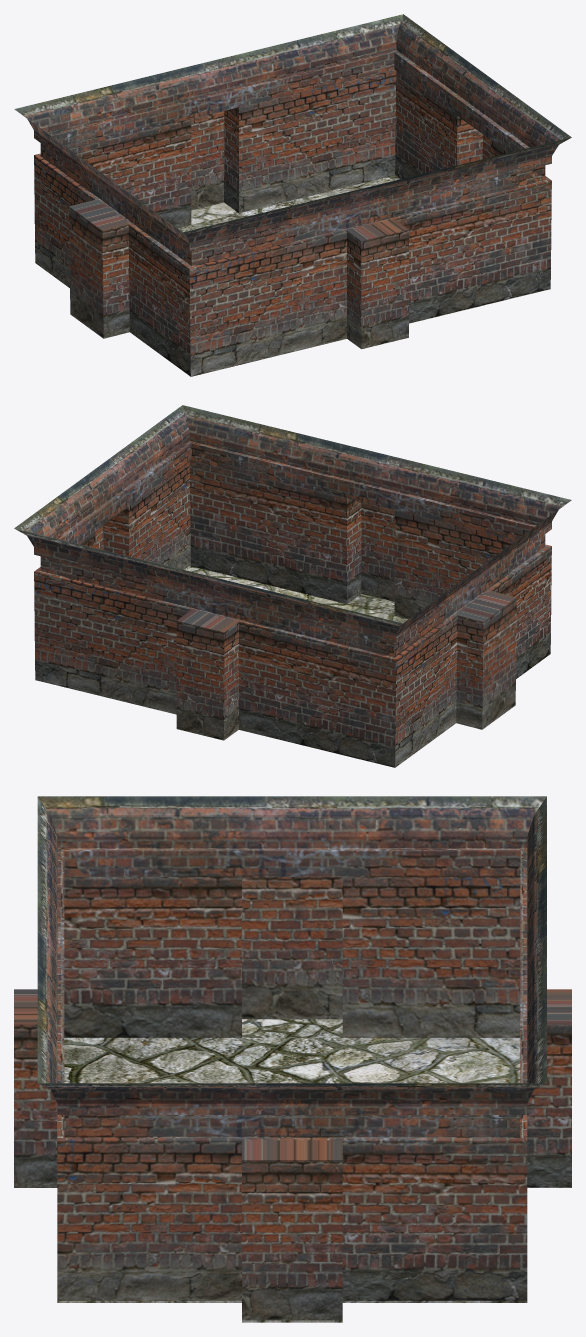
File: RoomLeftRightTopBottomDoor.fbx
3 renders of one model, top to bottom at view 1: azimuth 30°, elevation 25°; view 2: azimuth 150°, elevation 25°; view 3: azimuth 270°, elevation 25°, orthographic. The views are drawn at different scales.
Parts seen in each view (by area): view 1: RoomLeftRightTopBottomDoor; view 2: RoomLeftRightTopBottomDoor; view 3: RoomLeftRightTopBottomDoor.
Part boxes in pixels (x1=…): RoomLeftRightTopBottomDoor: x1=14, y1=14, x2=571, y2=376; RoomLeftRightTopBottomDoor: x1=14, y1=405, x2=571, y2=767; RoomLeftRightTopBottomDoor: x1=14, y1=796, x2=571, y2=1322.
Size of the model in its own units: 851 by 301 by 657.
